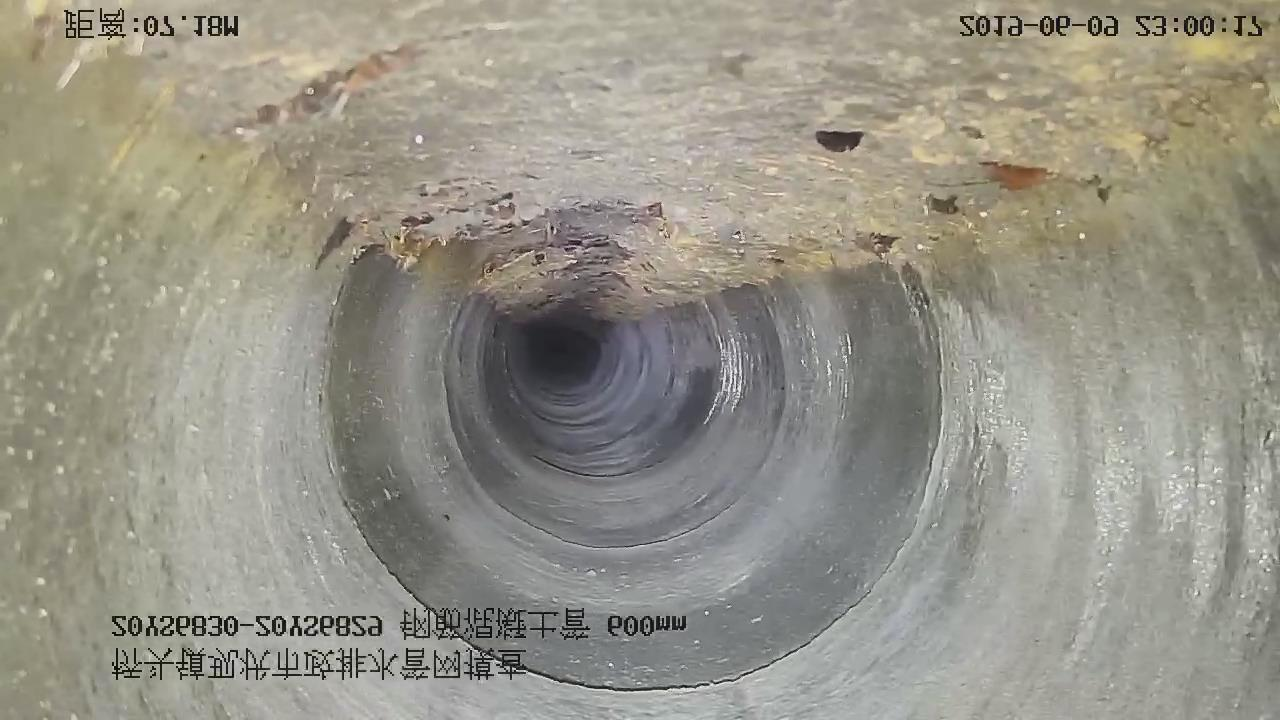CJ: (154, 1, 1274, 318)
CKTJ: (312, 245, 954, 698)
